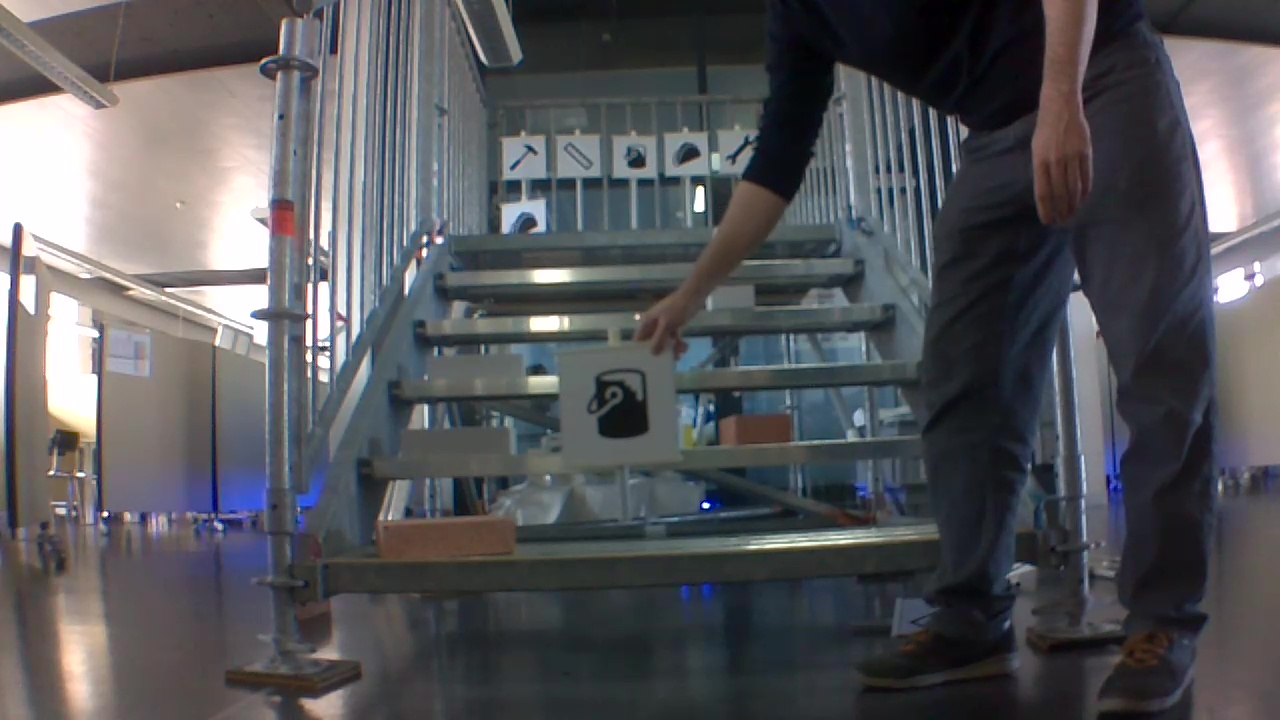brick: (374, 513, 513, 559), (401, 428, 514, 460), (426, 354, 524, 379), (718, 413, 789, 443), (706, 285, 755, 307)
bucket: (578, 359, 656, 443), (619, 141, 652, 172)
edge: (321, 526, 1041, 592)
hammer: (508, 139, 540, 173)
ruler: (560, 139, 597, 173)
taco: (669, 137, 699, 169), (505, 207, 537, 233)
wrench: (721, 131, 756, 168)
